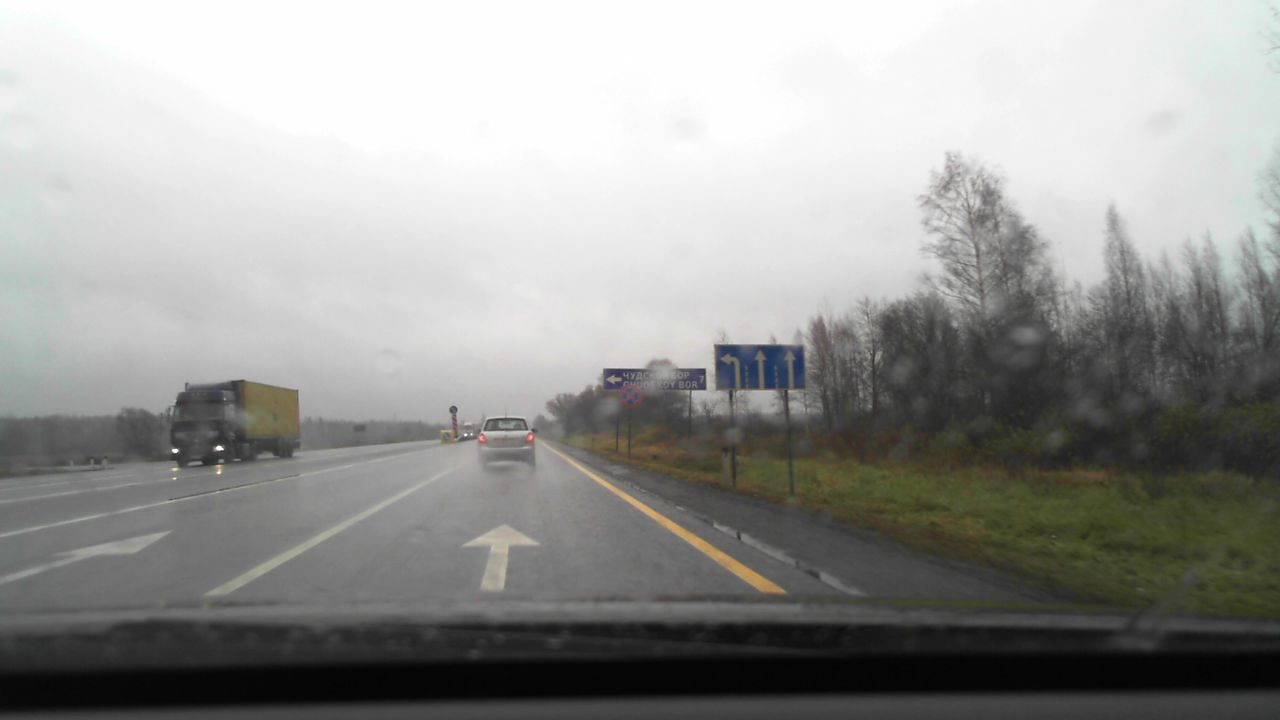No Parking: (618, 384, 642, 409)
